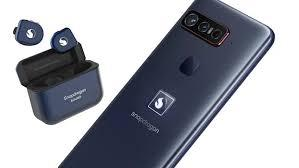Smartphone: (72, 0, 274, 168)
